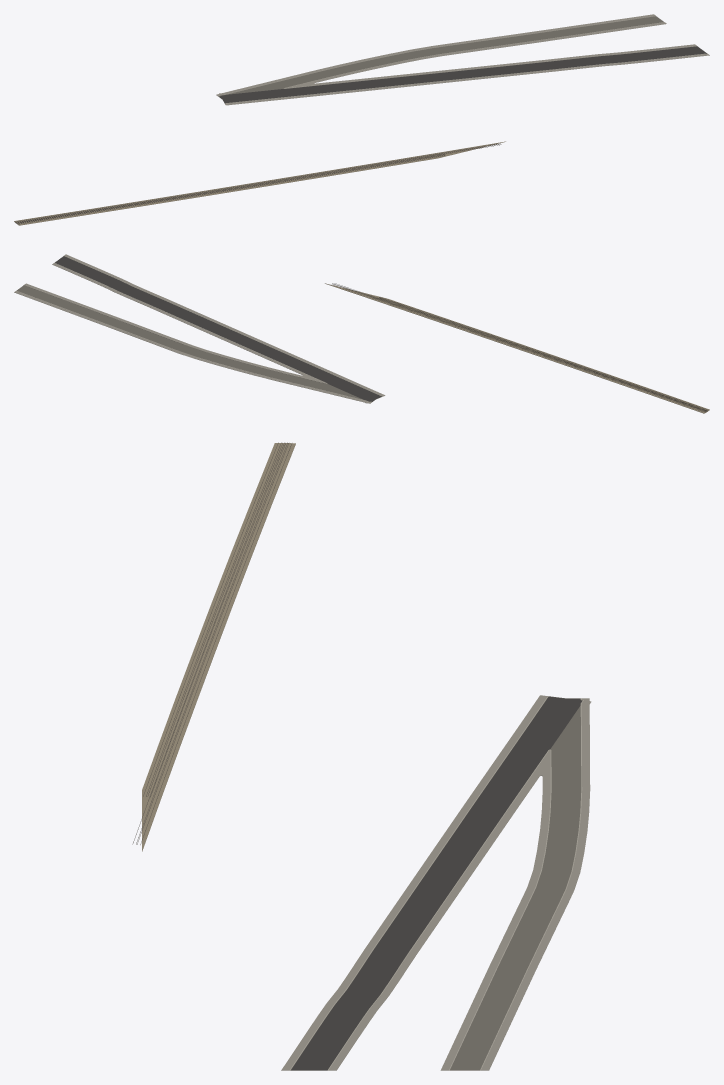
Rendered from Ulice_0_3.fbx.
3 views of the same model, one above another, from view 1: azimuth 30°, elevation 25°; view 2: azimuth 150°, elevation 25°; view 3: azimuth 270°, elevation 25° (orthographic). The views are drawn at different scales.
Parts seen in each view (by area): view 1: Ulica_0_3, Chodnik_0_3, Tory_0_3; view 2: Ulica_0_3, Chodnik_0_3, Tory_0_3; view 3: Ulica_0_3, Chodnik_0_3, Tory_0_3.
Boxes of the visible parts, x1=… form: Ulica_0_3: x1=219, y1=16, x2=706, y2=103; Chodnik_0_3: x1=216, y1=14, x2=709, y2=105; Tory_0_3: x1=14, y1=141, x2=505, y2=225; Ulica_0_3: x1=17, y1=256, x2=381, y2=401; Chodnik_0_3: x1=14, y1=254, x2=385, y2=403; Tory_0_3: x1=325, y1=283, x2=709, y2=413; Ulica_0_3: x1=290, y1=696, x2=582, y2=1070; Chodnik_0_3: x1=281, y1=695, x2=591, y2=1070; Tory_0_3: x1=132, y1=442, x2=295, y2=851.
Size of the model in its own units: 500 by 0.5 by 155.
